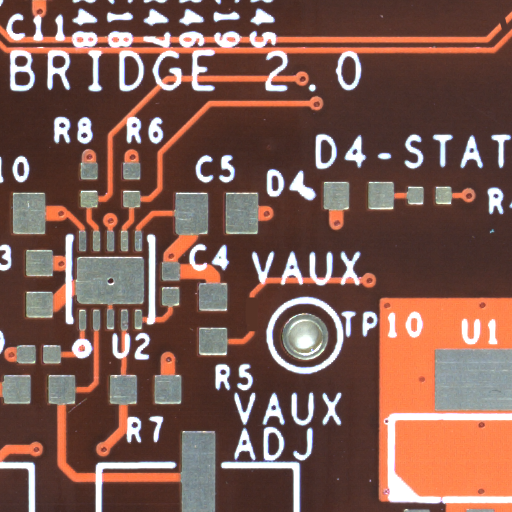Open_circuit: (251, 313, 266, 354), (503, 25, 512, 43)
